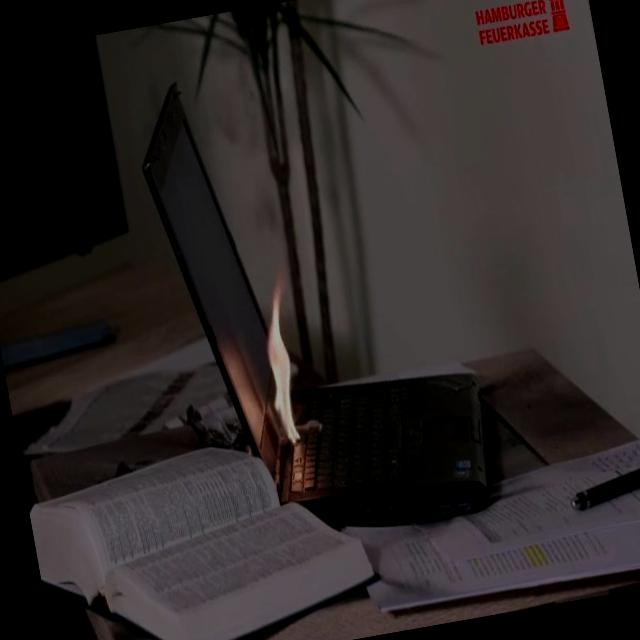fire: (234, 280, 328, 455)
